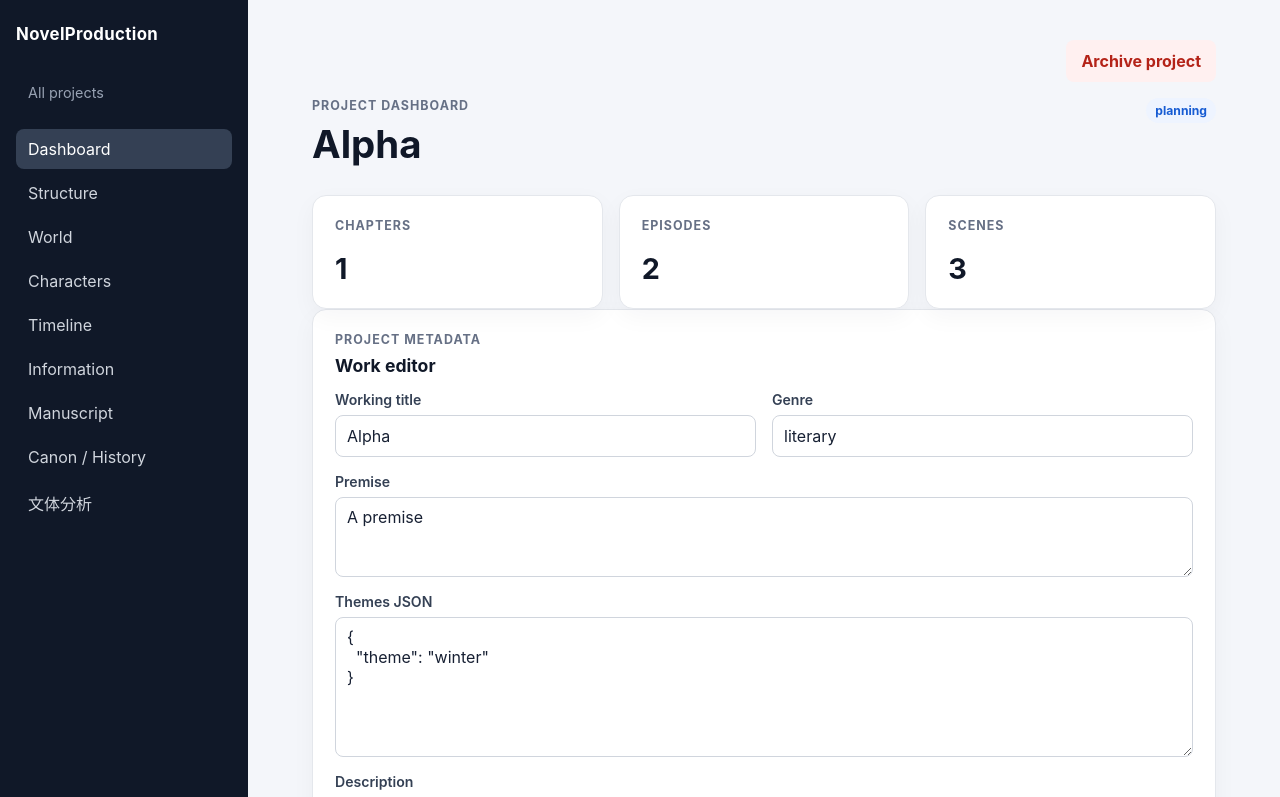
Test: Work editor › replaces the baseline only after a successful save and invalidates the view
Replace the text in the field labelled "Working title" with "Saved title". click: point(546, 436)
box: [335,415,756,457]
(page scrolled)
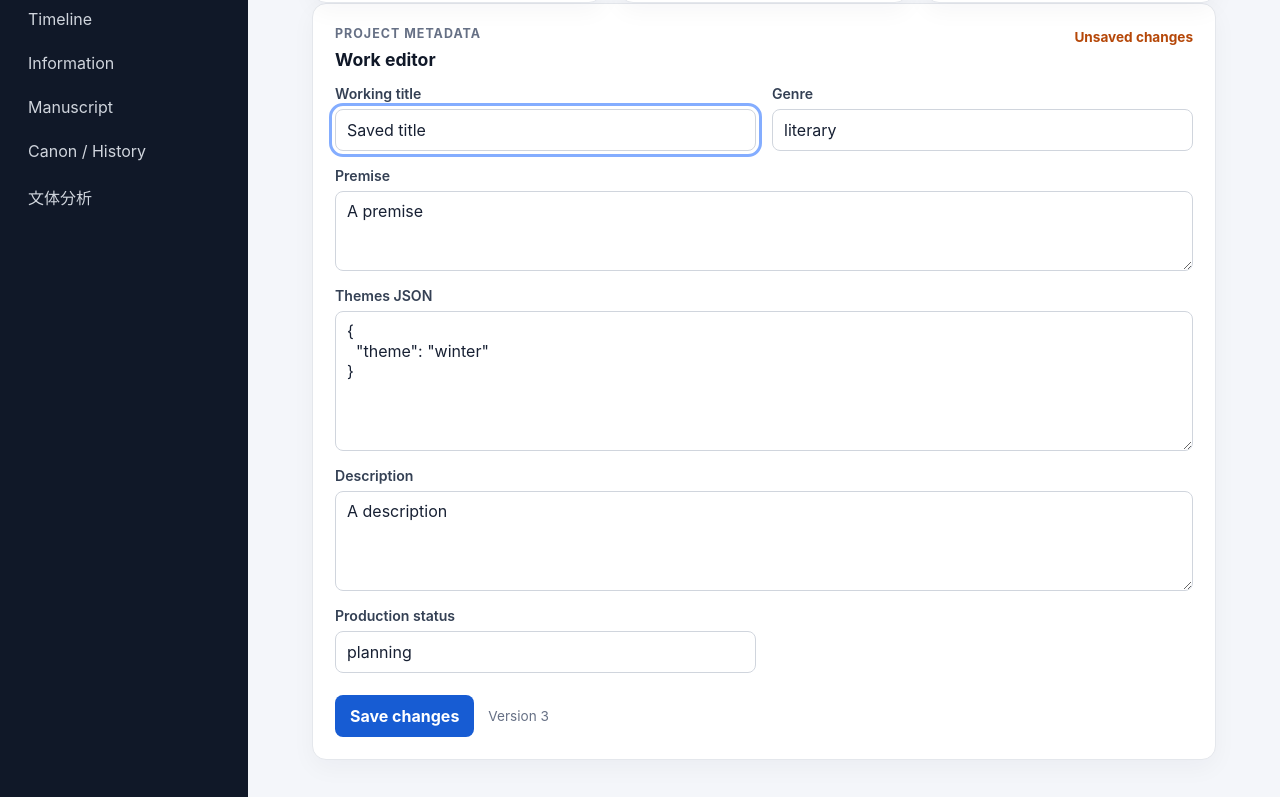
Click the button "Save changes". click: point(405, 716)
box: [335,695,474,737]
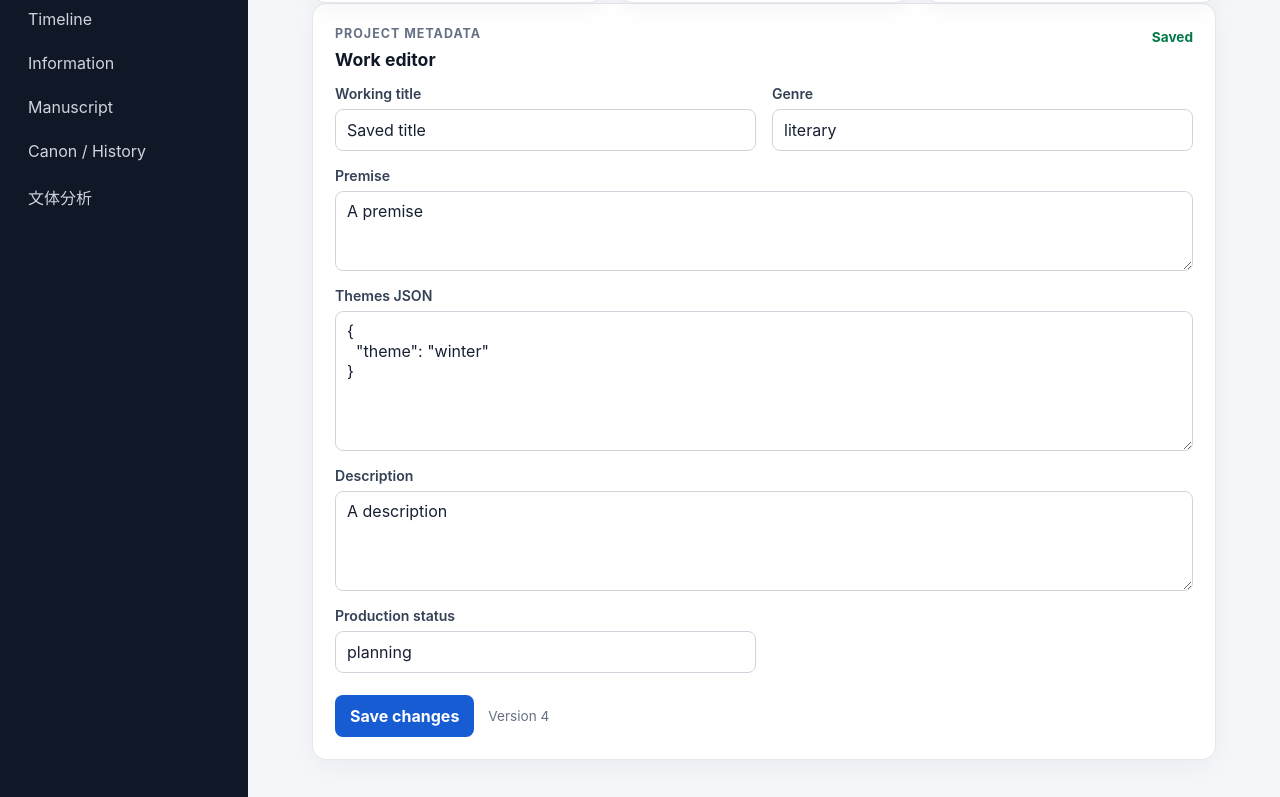
Check: the text "Saved" is shown, box [1152,29,1193,45]
Check: the text "Unsaved changes" is gone
